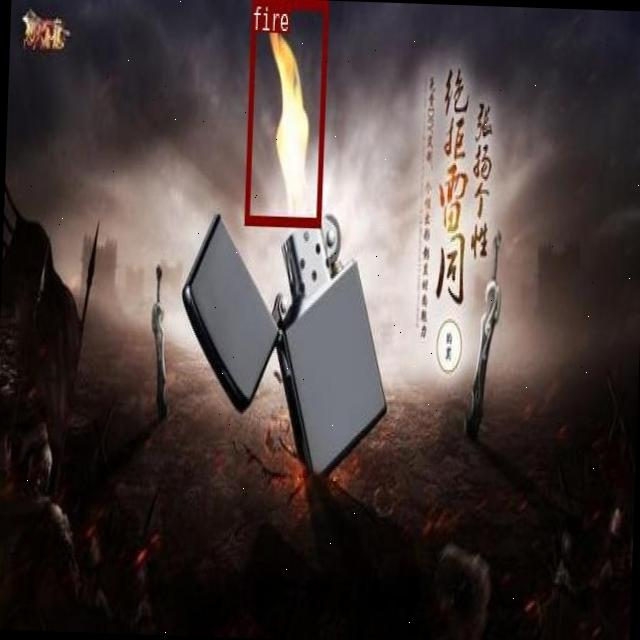fire: (243, 0, 327, 226)
